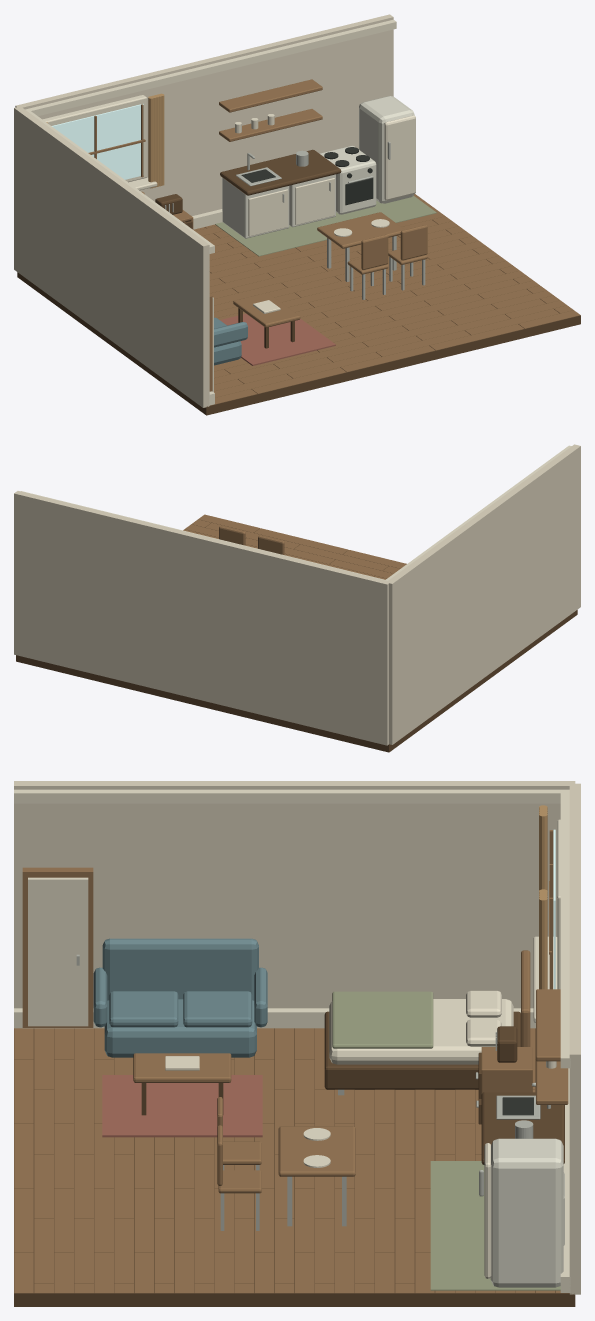
Rendered from interior-flat.glb.
The picture shows the model from 3 angles, top to bottom: view 1: azimuth 30°, elevation 25°; view 2: azimuth 150°, elevation 25°; view 3: azimuth 270°, elevation 25°; orthographic projection. The views are drawn at different scales.
Visible parts, largest first — view 1: oak floorboard, left plaster, back plaster, floor base, kitchen cupboard, back molding, mattress, window panes, blanket, sash bar, rug, bed leg (+4 smaller); view 2: back plaster, left plaster, oak floorboard, floor base, left molding, back molding; view 3: oak floorboard, left plaster, floor base, sofa base, left molding, blanket, kitchen cupboard, rug, mattress, back plaster, back molding, sash bar (+3 smaller).
Boxes of the visible parts, x1,y1,x2,y2 form: oak floorboard: [141, 191, 580, 405]; left plaster: [14, 106, 209, 407]; back plaster: [15, 14, 393, 215]; floor base: [17, 149, 580, 415]; kitchen cupboard: [222, 96, 414, 238]; back molding: [25, 19, 396, 229]; mattress: [248, 115, 415, 236]; window panes: [51, 104, 143, 179]; blanket: [215, 196, 436, 256]; sash bar: [88, 79, 322, 177]; rug: [220, 313, 335, 365]; bed leg: [165, 141, 425, 299]; back plaster: [14, 491, 390, 745]; left plaster: [388, 444, 580, 744]; oak floorboard: [183, 514, 406, 579]; floor base: [16, 564, 577, 752]; left molding: [386, 445, 571, 580]; back molding: [21, 491, 387, 580]; oak floorboard: [14, 950, 569, 1293]; left plaster: [14, 781, 575, 1008]; floor base: [14, 1011, 575, 1306]; sofa base: [93, 938, 267, 1057]; left molding: [14, 789, 569, 1028]; blanket: [332, 991, 560, 1290]; kitchen cupboard: [490, 1138, 564, 1287]; rug: [102, 1075, 262, 1137]; mattress: [303, 990, 513, 1278]; back plaster: [569, 783, 580, 1294]; back molding: [533, 789, 570, 1292]; sash bar: [536, 830, 568, 1104].
Size of the model in its own units: 8.07 by 3.47 by 7.07.
